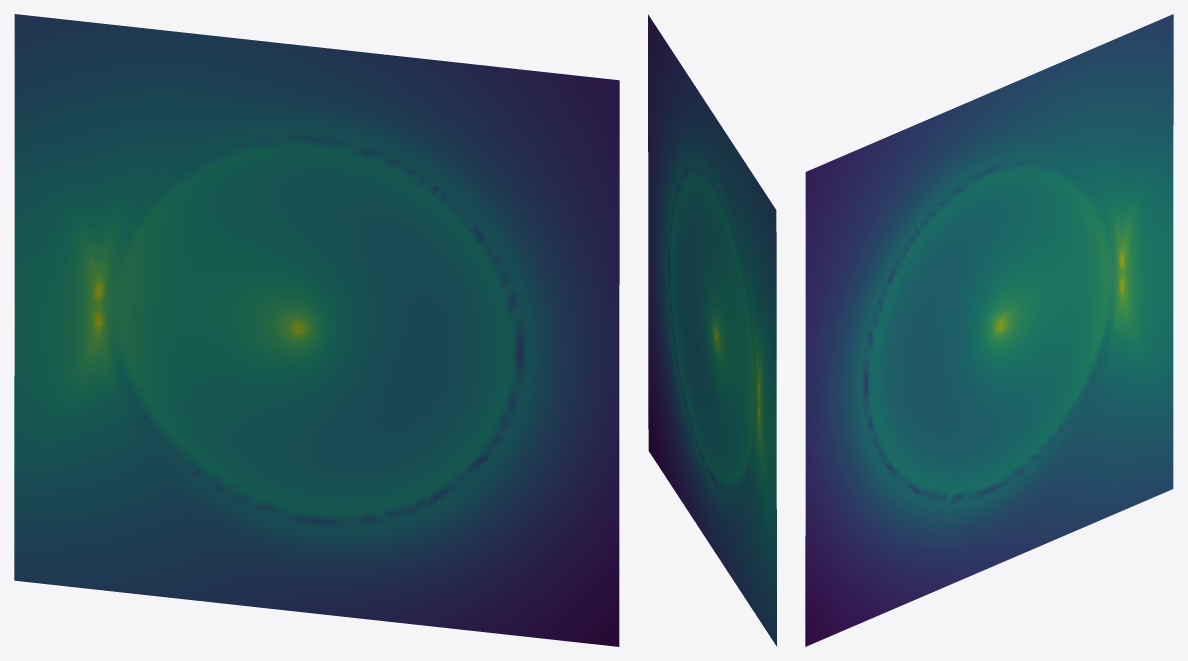
File: coil_1_cross_section.gltf
3 views of the same model, side by side, from view 1: azimuth 30°, elevation 25°; view 2: azimuth 150°, elevation 25°; view 3: azimuth 270°, elevation 25° (orthographic). The views are drawn at different scales.
Visible parts, largest first — view 1: Renderer Node; view 2: Renderer Node; view 3: Renderer Node.
Part boxes in pixels (bbox=[...]): Renderer Node: bbox=[14, 14, 619, 646]; Renderer Node: bbox=[648, 14, 776, 646]; Renderer Node: bbox=[805, 14, 1173, 646].
Bounding box in the file's own units: 0.6443 × 0.9029 × 0.634.
Materials: 1 (1 with a texture image).
